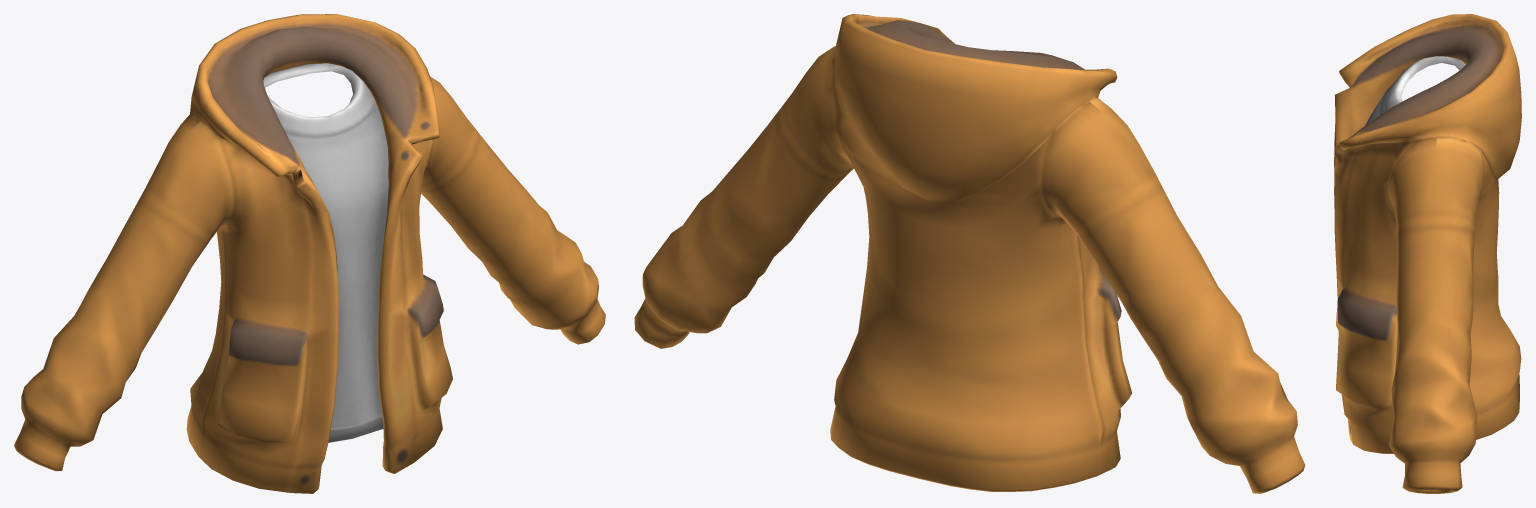
The model's file is Model_Jacket.glb.
The picture shows the model from 3 angles, left to right: view 1: azimuth 30°, elevation 25°; view 2: azimuth 150°, elevation 25°; view 3: azimuth 270°, elevation 25°; orthographic projection. The views are drawn at different scales.
Parts seen in each view (by area): view 1: TOP; view 2: TOP; view 3: TOP.
Part boxes in pixels (x1=…): TOP: x1=14, y1=14, x2=605, y2=493; TOP: x1=634, y1=14, x2=1305, y2=493; TOP: x1=1334, y1=14, x2=1521, y2=493.
Bounding box in the file's own units: 0.7869 × 0.5196 × 0.2349.
1 material, 1 textured.
